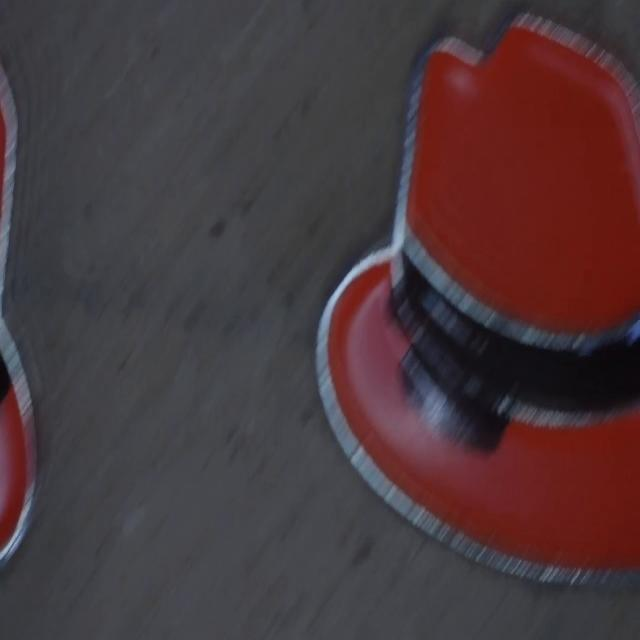Hatband: (392, 251, 640, 426)
Paint_Leak: (400, 344, 506, 451)
RedHatPin: (316, 16, 640, 582)
